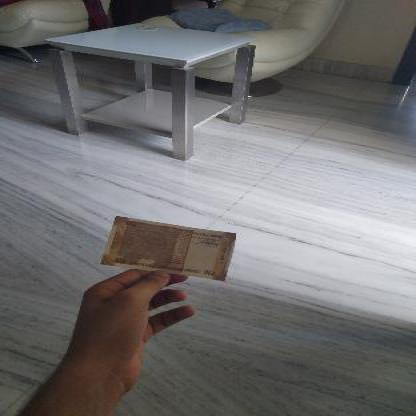New10Back: (107, 214, 237, 280)
